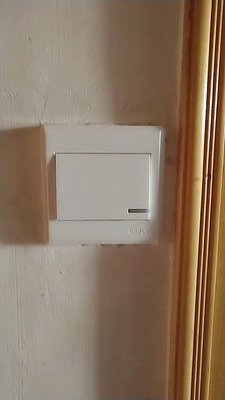switch: (46, 144, 157, 227)
